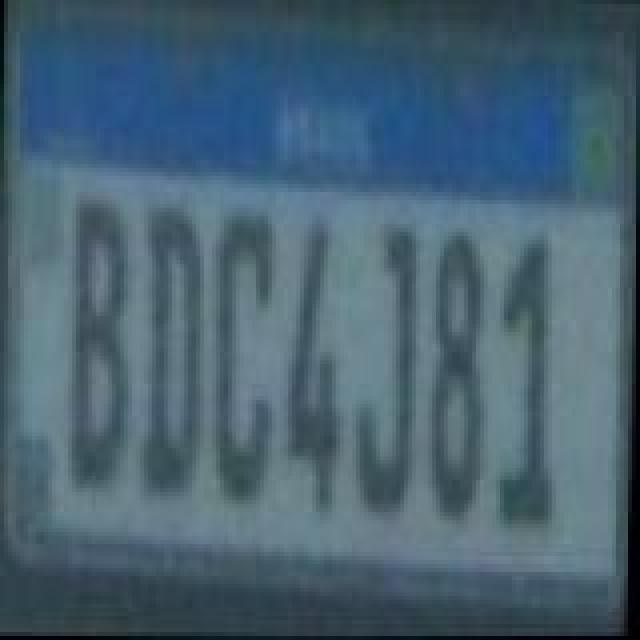1: (494, 236, 566, 532)
4: (284, 214, 348, 518)
8: (426, 228, 494, 524)
B: (70, 188, 138, 492)
C: (208, 196, 280, 500)
D: (136, 196, 208, 500)
J: (352, 220, 424, 516)
